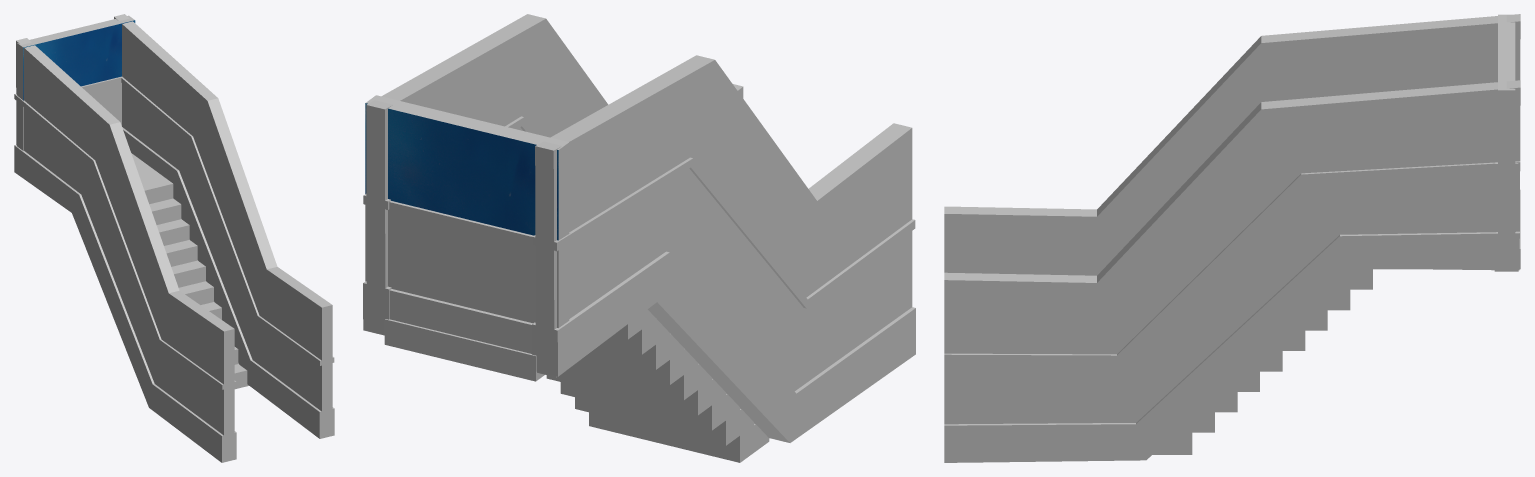
Rendered from Stairs.fbx.
3 renders of one model, left to right at view 1: azimuth 30°, elevation 25°; view 2: azimuth 150°, elevation 25°; view 3: azimuth 270°, elevation 25°, orthographic. The views are drawn at different scales.
Parts seen in each view (by area): view 1: Cube.013, Cube.012, Cube.015, Cube.014; view 2: Cube.013, Cube.015, Cube.014, Cube.012; view 3: Cube.012, Cube.013, Cube.014, Cube.015.
Boxes of the visible parts, left/top/right/bottom form: Cube.013: left=14, top=38, right=236, bottom=462; Cube.012: left=114, top=14, right=334, bottom=438; Cube.015: left=17, top=15, right=135, bottom=150; Cube.014: left=131, top=153, right=248, bottom=389; Cube.013: left=532, top=55, right=915, bottom=442; Cube.015: left=363, top=95, right=570, bottom=377; Cube.014: left=384, top=309, right=769, bottom=462; Cube.012: left=363, top=14, right=743, bottom=334; Cube.012: left=944, top=80, right=1520, bottom=462; Cube.013: left=944, top=14, right=1520, bottom=275; Cube.014: left=1152, top=189, right=1520, bottom=454; Cube.015: left=1494, top=14, right=1518, bottom=271.
Bounding box in the file's own units: 1606 × 3666 × 5114.
